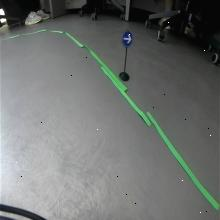right: (122, 29, 134, 48)
